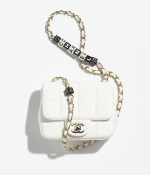channel: (42, 62, 129, 149), (58, 75, 76, 118), (68, 118, 87, 131)
